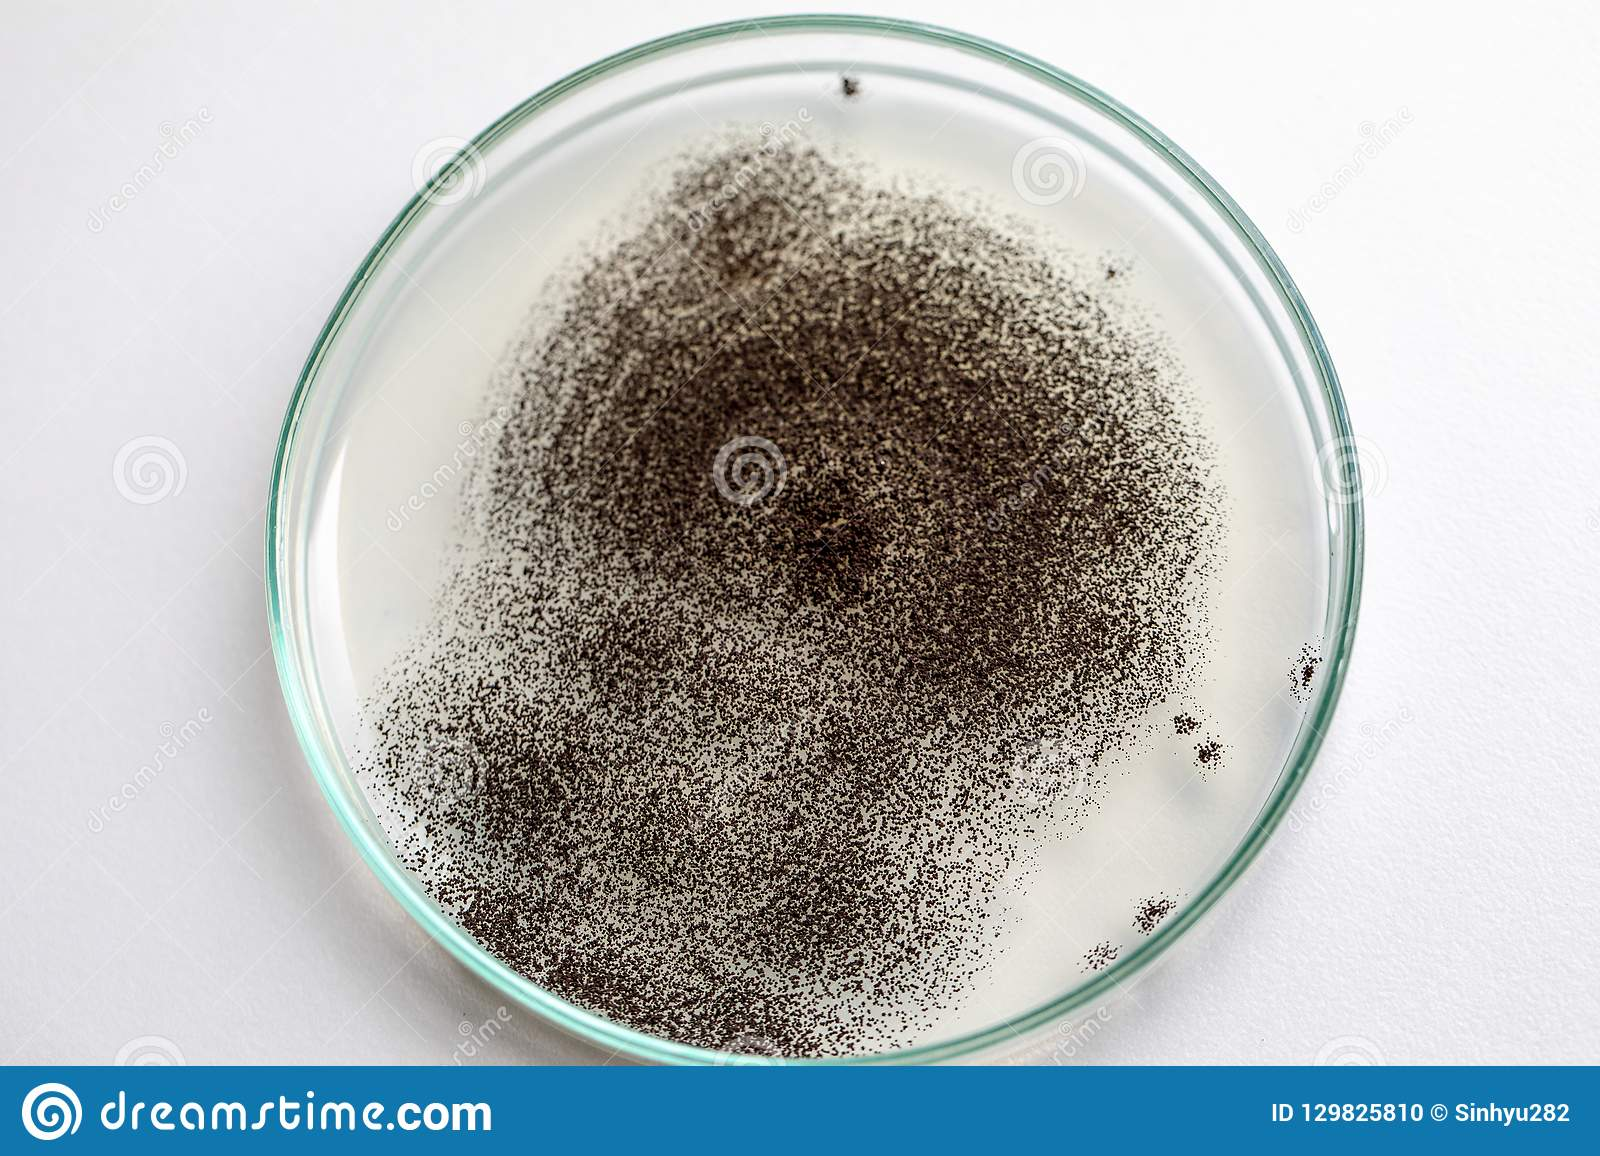Rhizopus: (610, 252, 1094, 697), (391, 673, 886, 856)
